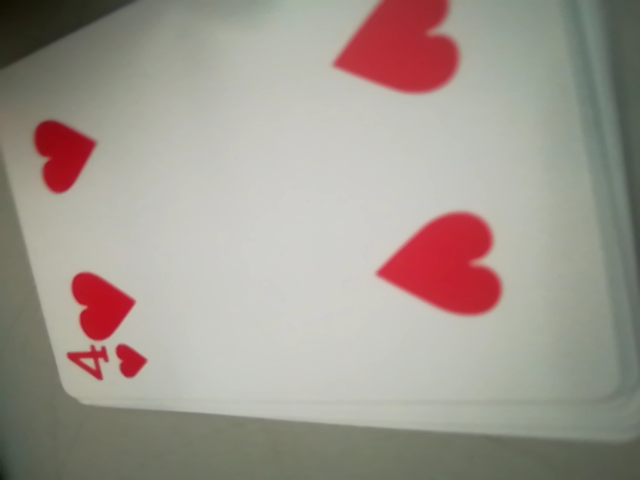hx 4: (59, 337, 152, 394)
